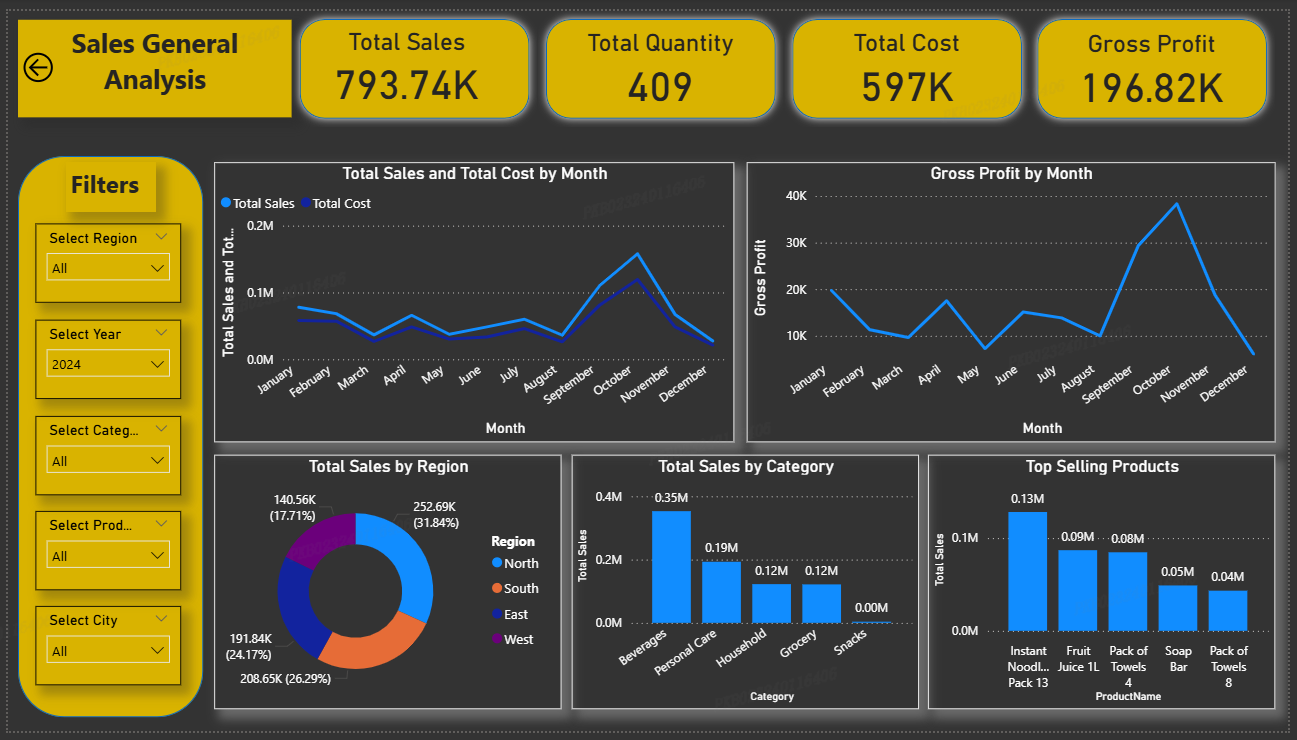

Layout of this report page (visuals, bound fields, positions):
{"tool":"powerbi","page":{"name":"General Overview","canvas":[1280,720],"ordinal":2},"visuals":[{"type":"shape","box":[10,144.9,185.2,561.2],"z":0},{"type":"slicer","fields":{"Values":["Customers.Region"]},"box":[27.8,212.8,145.5,79.6],"z":1000},{"type":"slicer","fields":{"Values":["Sales.SalesDate.Variation.Date Hierarchy.Year"]},"box":[27.8,308.9,145.5,79.6],"z":2000},{"type":"slicer","fields":{"Values":["Products.Category"]},"box":[27.8,404.9,145.5,79.6],"z":3000},{"type":"slicer","fields":{"Values":["Products.ProductName"]},"box":[27.8,499.6,145.5,79.6],"z":4000},{"type":"slicer","fields":{"Values":["Customers.City"]},"box":[27.8,594.9,145.5,79.6],"z":5000},{"type":"textbox","box":[57.6,151.7,90.4,49.6],"z":6000},{"type":"textbox","box":[10,8.8,273.8,97.5],"z":7000},{"type":"shape","box":[1021.4,0,245.7,115.7],"z":8000},{"type":"shape","box":[775.7,0,245.7,115.7],"z":9000},{"type":"shape","box":[530,0,245.7,115.7],"z":10000},{"type":"shape","box":[284.3,0,245.7,115.7],"z":11000},{"type":"card","title":"Total Sales","fields":{"Values":["Measures_Table.Total Sales"]},"box":[298.2,15.9,200,80],"z":12000},{"type":"card","title":"Total Quantity","fields":{"Values":["Measures_Table.Total Quantity"]},"box":[552.9,17.1,200,80],"z":13000},{"type":"card","title":"Gross Profit","fields":{"Values":["Measures_Table.Gross Profit"]},"box":[1044.3,18.6,200,80],"z":14000},{"type":"card","title":"Total Cost","fields":{"Values":["Measures_Table.Total Cost"]},"box":[798.6,17.1,200,80],"z":15000},{"type":"donutChart","fields":{"Category":["Customers.Region"],"Y":["Measures_Table.Total Sales"]},"box":[205.7,444.3,347.1,254.3],"z":16000},{"type":"lineChart","fields":{"Y":["Measures_Table.Total Sales","Measures_Table.Total Cost"],"Category":["Sales.SalesDate.Variation.Date Hierarchy.Month"]},"box":[205.7,151.4,520,280],"z":17000},{"type":"clusteredColumnChart","fields":{"Category":["Products.Category"],"Y":["Measures_Table.Total Sales"]},"box":[564.3,444.3,347.1,254.3],"z":18000},{"type":"clusteredColumnChart","title":"Top Selling Products","fields":{"Category":["Products.ProductName"],"Y":["Measures_Table.Total Sales"]},"box":[920,444.3,347.1,254.3],"z":19000},{"type":"lineChart","fields":{"Category":["Sales.SalesDate.Variation.Date Hierarchy.Month"],"Y":["Measures_Table.Gross Profit"]},"box":[738.6,151.4,528.6,280],"z":20000},{"type":"actionButton","box":[9.8,36.7,100.3,40.4],"z":20001}]}

Visuals, with their boxes in screenshot pixels (x1, y1, x2, y2), scaled from the page's 1280x720 canvas onto the 1297x740 screenshot:
shape: (10, 149, 198, 726)
slicer - Customers.Region: (28, 219, 176, 301)
slicer - Sales.SalesDate.Variation.Date Hierarchy.Year: (28, 317, 176, 399)
slicer - Products.Category: (28, 416, 176, 498)
slicer - Products.ProductName: (28, 513, 176, 595)
slicer - Customers.City: (28, 611, 176, 693)
textbox: (58, 156, 150, 207)
textbox: (10, 9, 288, 109)
shape: (1035, 0, 1284, 119)
shape: (786, 0, 1035, 119)
shape: (537, 0, 786, 119)
shape: (288, 0, 537, 119)
"Total Sales" card: (302, 16, 505, 99)
"Total Quantity" card: (560, 18, 763, 100)
"Gross Profit" card: (1058, 19, 1261, 101)
"Total Cost" card: (809, 18, 1012, 100)
donutChart - Customers.Region x Measures_Table.Total Sales: (208, 457, 560, 718)
lineChart - Measures_Table.Total Sales x Measures_Table.Total Cost: (208, 156, 735, 443)
clusteredColumnChart - Products.Category x Measures_Table.Total Sales: (572, 457, 924, 718)
"Top Selling Products" clusteredColumnChart: (932, 457, 1284, 718)
lineChart - Sales.SalesDate.Variation.Date Hierarchy.Month x Measures_Table.Gross Profit: (748, 156, 1284, 443)
actionButton: (10, 38, 112, 79)
